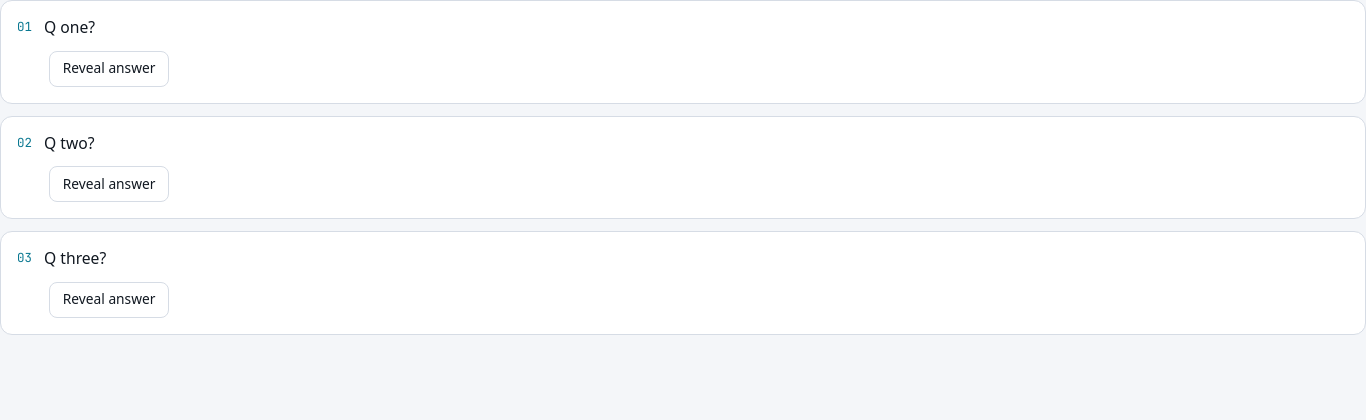
Test case: SelfCheck › hides every answer until it is revealed
Expected: the number of list items is 3, left=0, top=0, right=1365, bottom=104; left=0, top=116, right=1365, bottom=219; left=0, top=231, right=1365, bottom=335
Expected: the text "A one." is not shown
Click the button "Reveal answer" below "02" at (109,184), box left=49, top=166, right=169, bottom=202
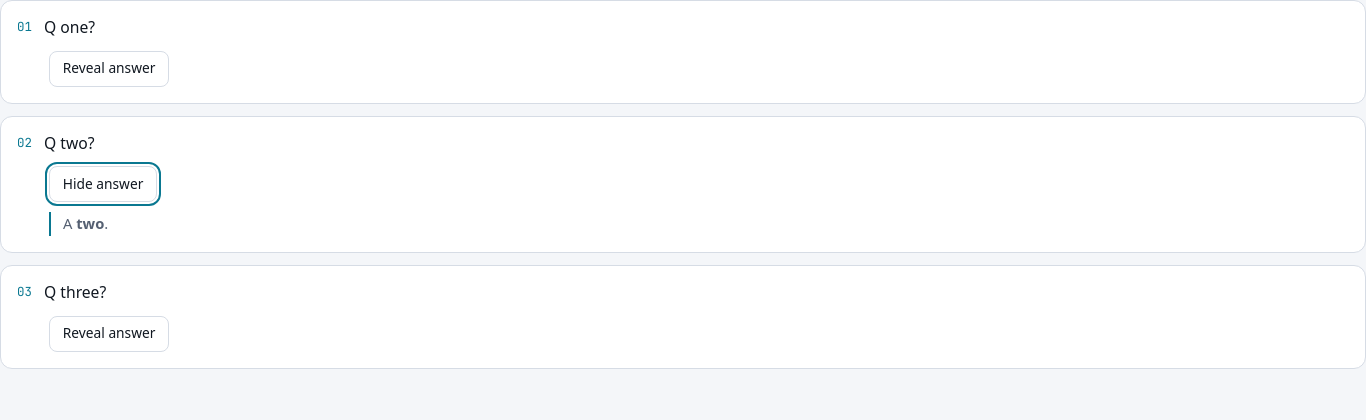
Expected: the text "A one." is not shown
Click the button "Reveal answer" below "01" at (109,69), box left=49, top=51, right=169, bottom=87
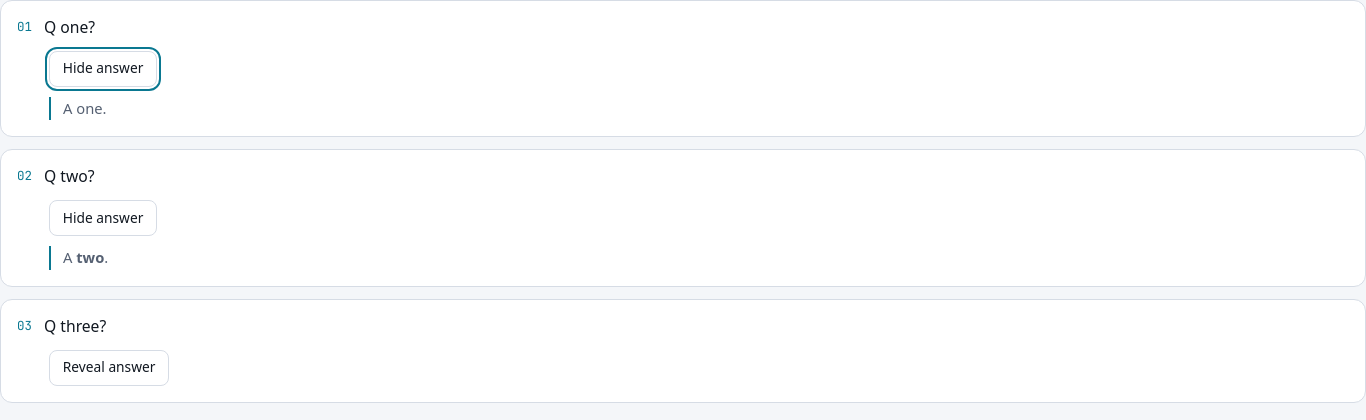
Expected: the text "A one." is shown, left=49, top=97, right=1349, bottom=120
Click the button "Hide answer" below "01" at (103,69), box left=49, top=51, right=157, bottom=87
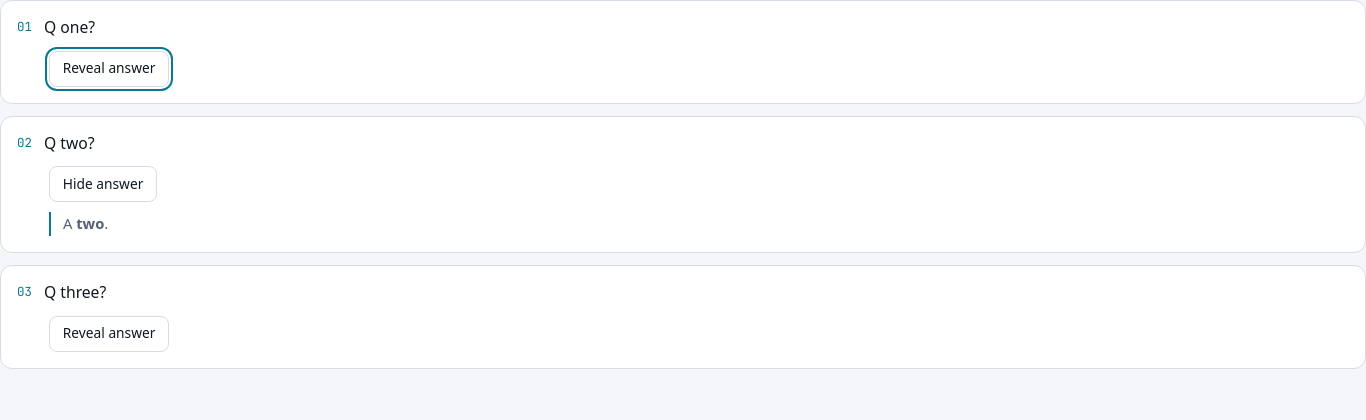
Expected: the text "A one." is gone
